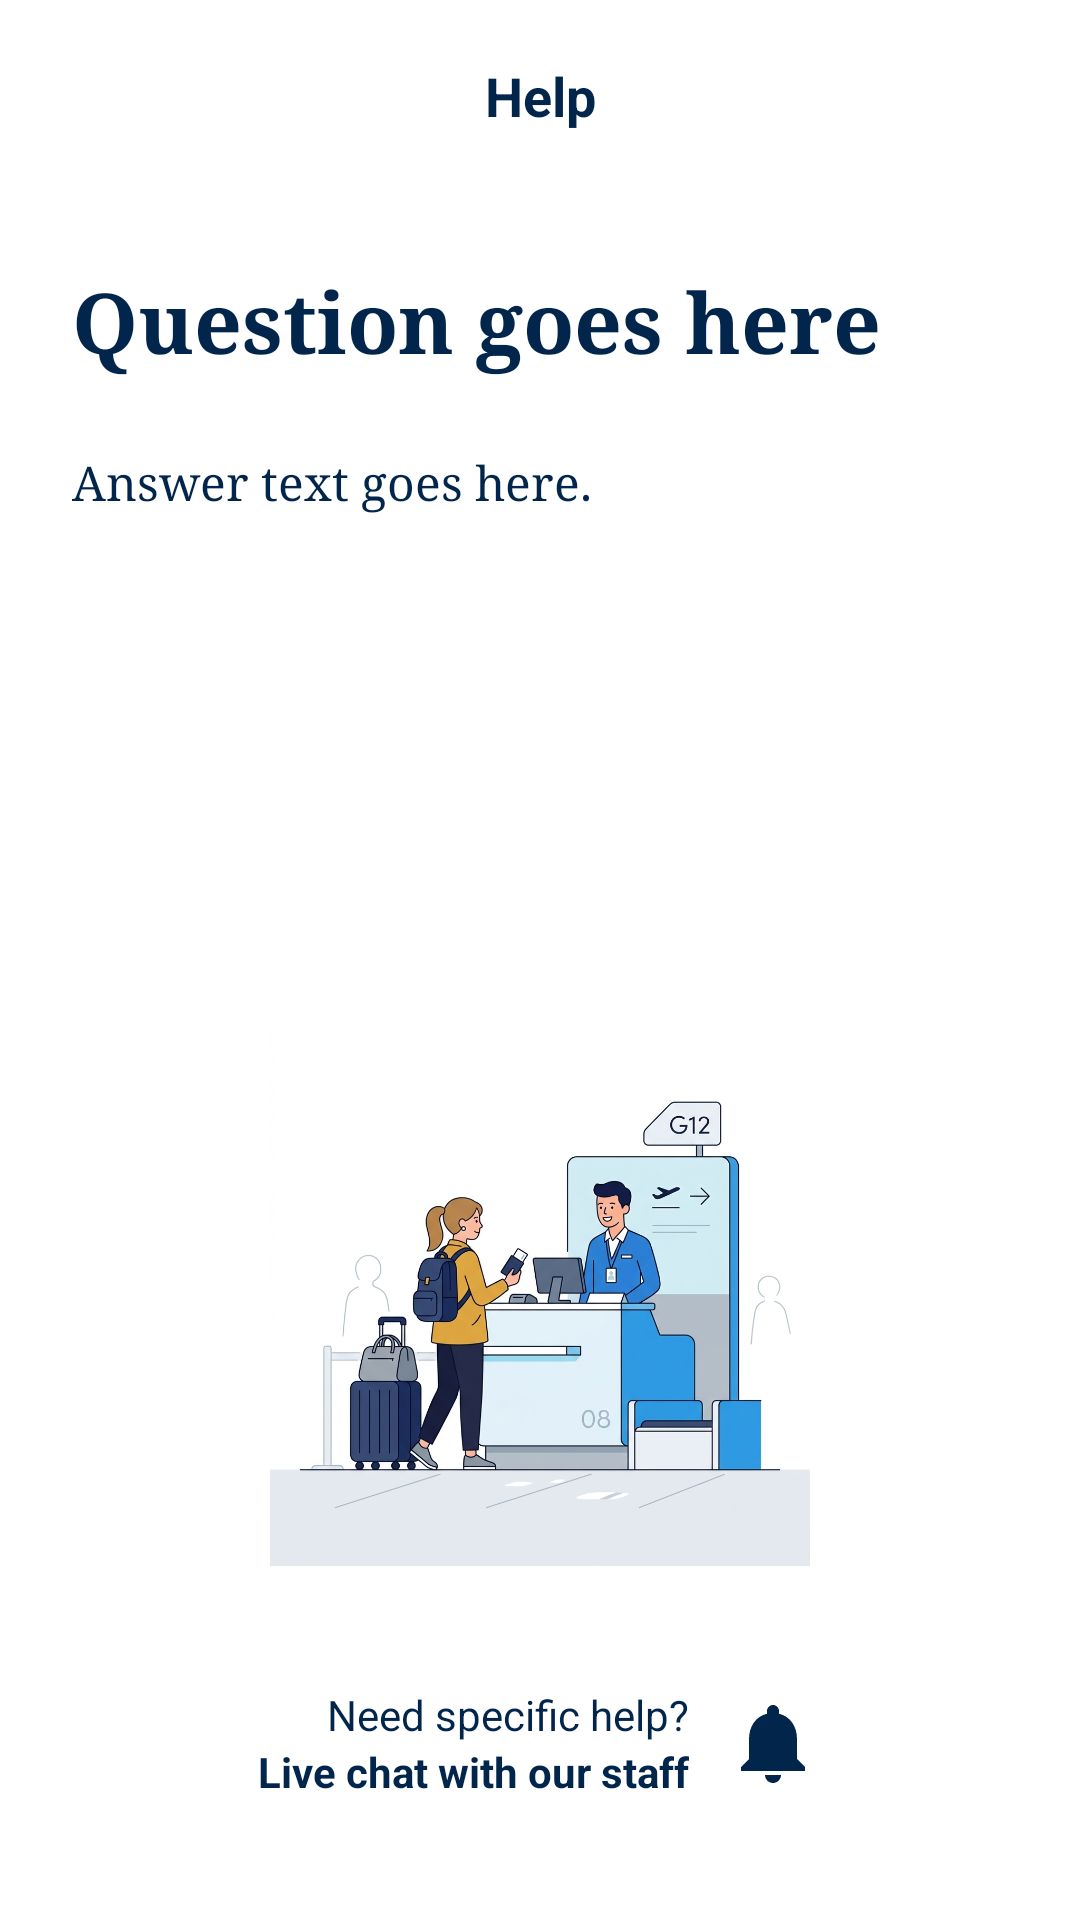

Named icons in this screenshot (1080 x 1920) and their bounding boxes, (x1, y1, x2, y2):
notification: (741, 1705, 805, 1783)
